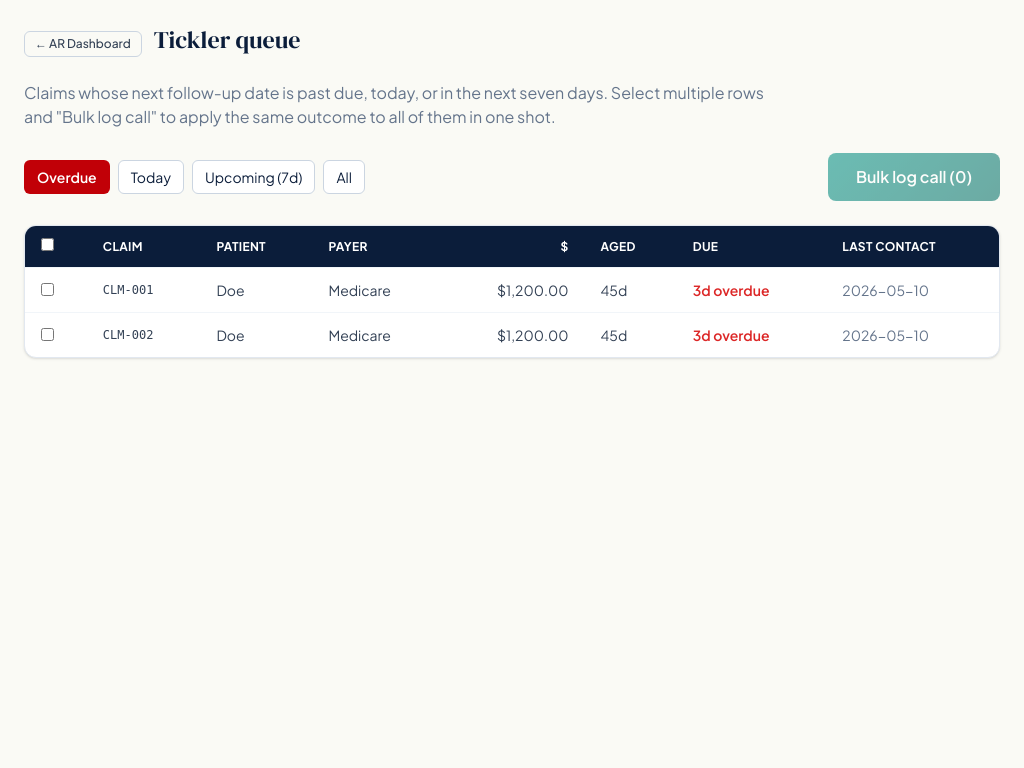
Test: ArTicklerPage › opens the bulk modal and posts the selected claims
The image size is (1024, 768).
Expected: the text "CLM-001" is shown, [87,268,200,312]
Click the checkbox named "Select claim CLM-001" at (48, 290), box [41,283,54,296]
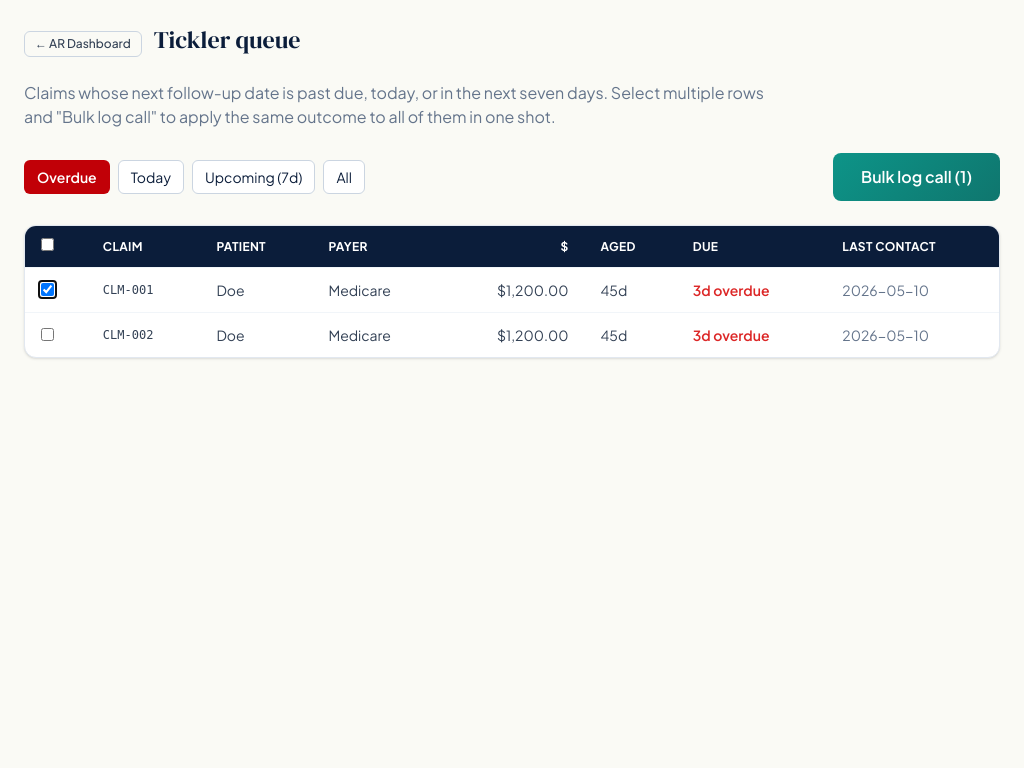
Click the checkbox named "Select claim CLM-002" at (48, 334), box [41,328,54,341]
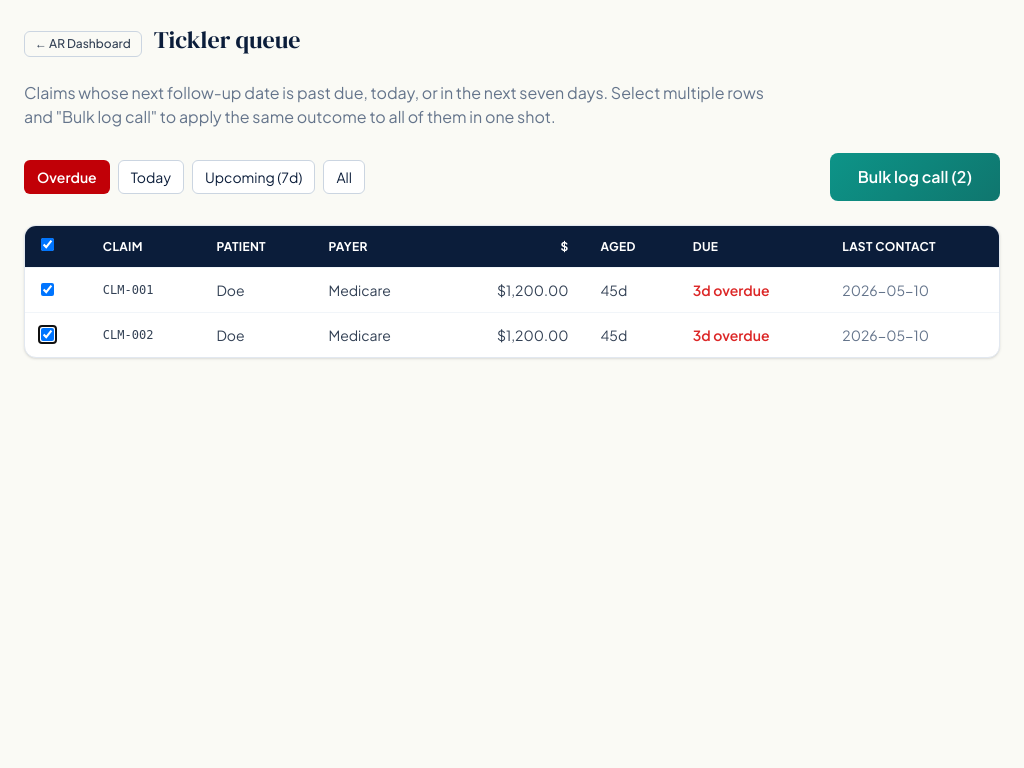
Click the button "Bulk log call (2)" at (915, 177), box [830,153,1000,201]
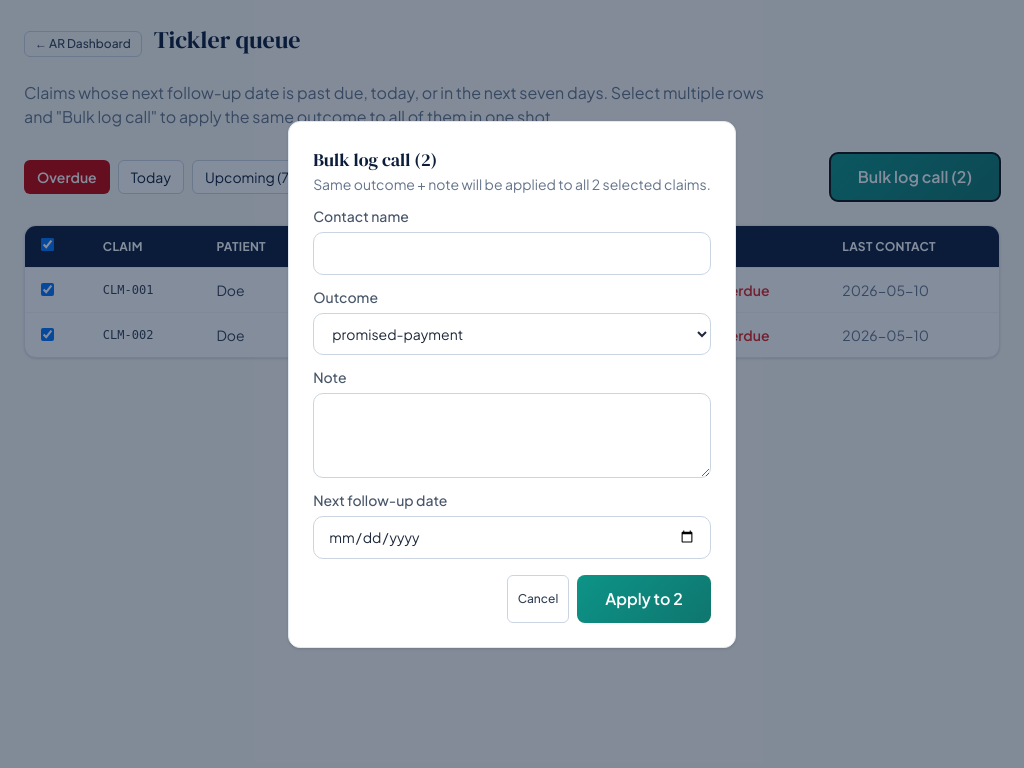
Type "Payer Rep" into the field labelled "Contact name" at (512, 253), box [313,232,711,274]
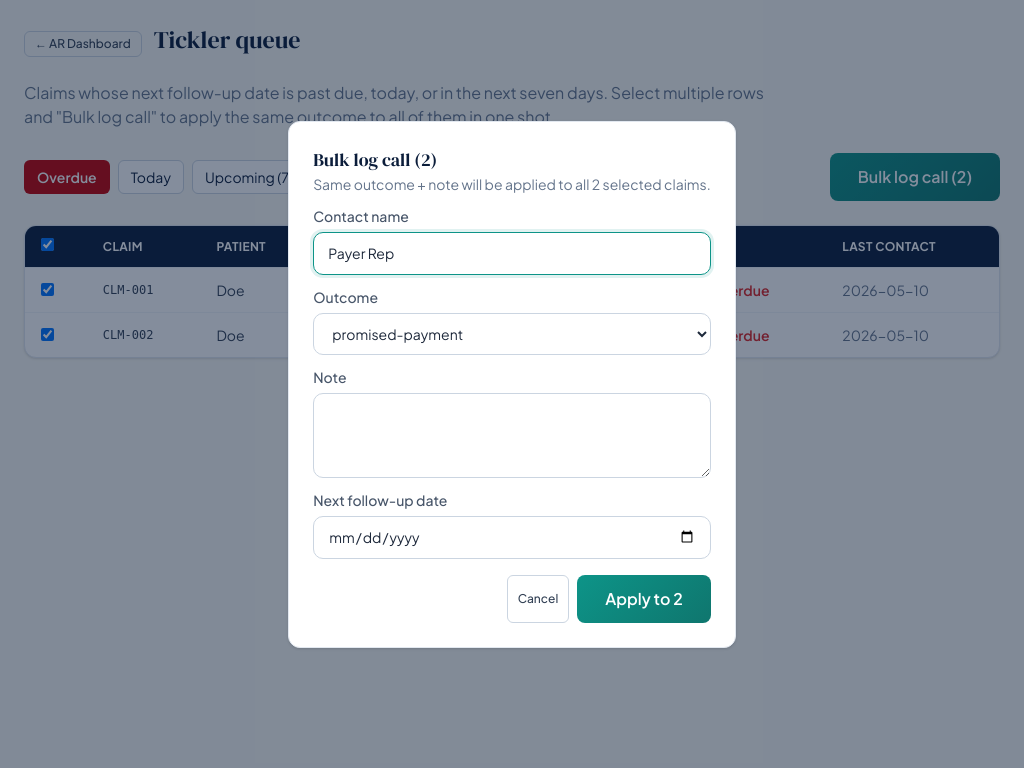
Type "Promised by Friday" into the text box labelled "Note" at (512, 435), box [313,392,711,478]
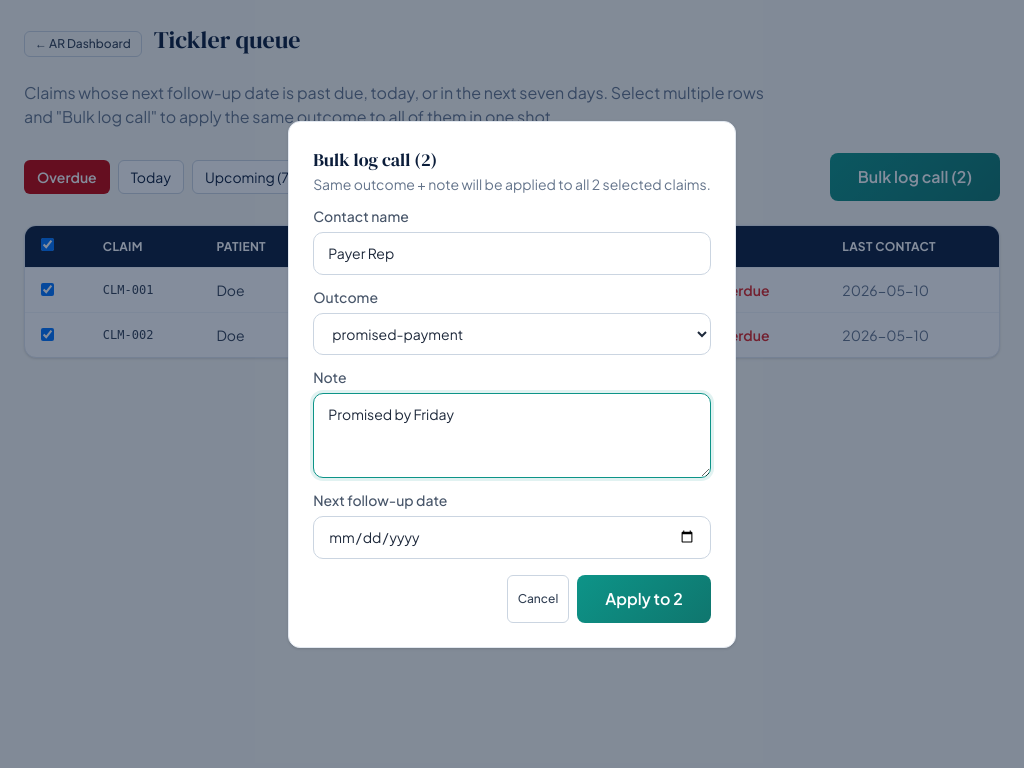
Click the button "Apply to 2" at (644, 598), box [577,574,711,622]
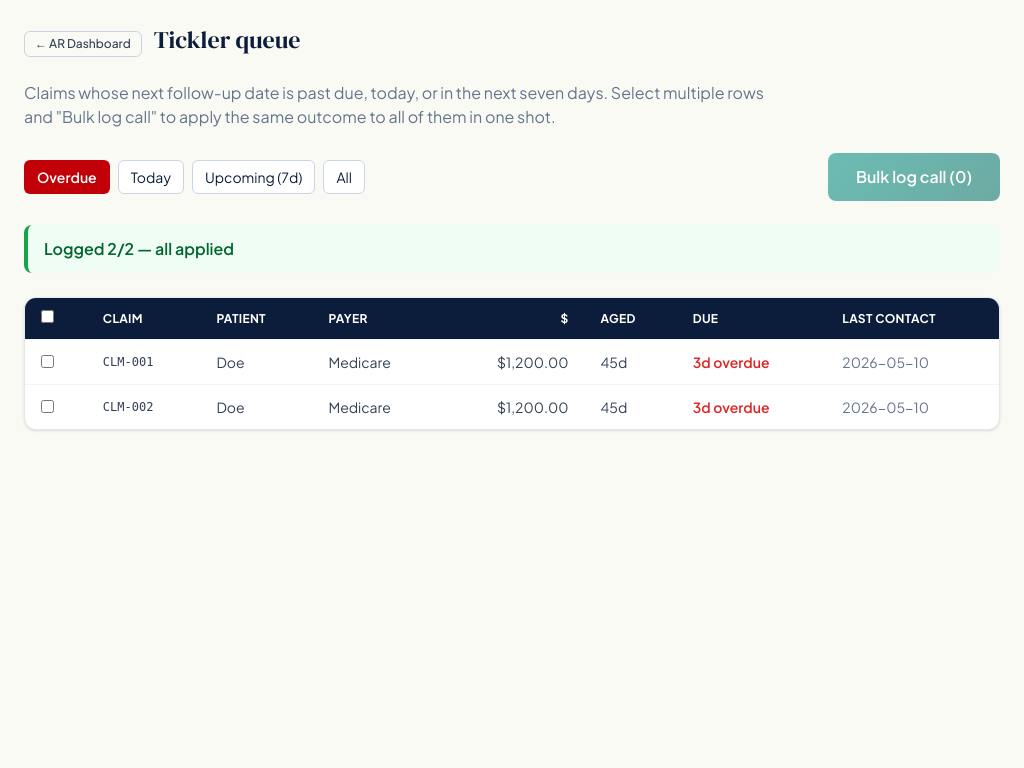
Expected: the text "Logged 2/2 — all applied" is shown, [24,225,1000,273]
